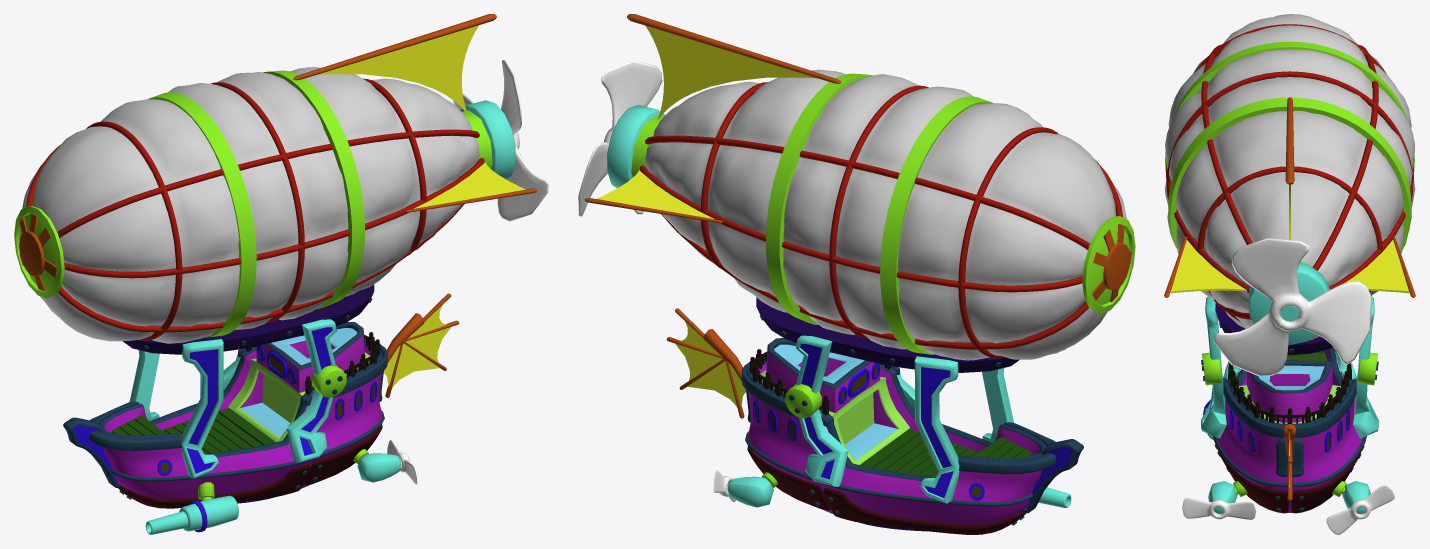
The model's file is cs_zeppelin.fbx.
3 views of the same model, side by side, from view 1: azimuth 30°, elevation 25°; view 2: azimuth 150°, elevation 25°; view 3: azimuth 270°, elevation 25° (orthographic). The views are drawn at different scales.
Visible parts, largest first — view 1: CloudStrife_Zeppelin_PIllow_low, CloudStrife_Zeppelin_Body_2_low, CloudStrife_Zeppelin_Body_low, CloudStrife_Zeppelin_Body_2_MainBlade_low; view 2: CloudStrife_Zeppelin_PIllow_low, CloudStrife_Zeppelin_Body_2_low, CloudStrife_Zeppelin_Body_low, CloudStrife_Zeppelin_Body_2_MainBlade_low; view 3: CloudStrife_Zeppelin_PIllow_low, CloudStrife_Zeppelin_Body_2_low, CloudStrife_Zeppelin_Body_low, CloudStrife_Zeppelin_Body_2_MainBlade_low, CloudStrife_Zeppelin_Body_2_RearBlade_low, CloudStrife_Zeppelin_Body_2_RearBlade2_low.
Part boxes in pixels (box(x1,y1,x2,y2)): CloudStrife_Zeppelin_PIllow_low: box(22, 67, 479, 343); CloudStrife_Zeppelin_Body_2_low: box(14, 14, 536, 534); CloudStrife_Zeppelin_Body_low: box(89, 284, 387, 508); CloudStrife_Zeppelin_Body_2_MainBlade_low: box(453, 60, 549, 221); CloudStrife_Zeppelin_PIllow_low: box(645, 69, 1126, 360); CloudStrife_Zeppelin_Body_2_low: box(584, 14, 1135, 513); CloudStrife_Zeppelin_Body_low: box(741, 297, 1056, 534); CloudStrife_Zeppelin_Body_2_MainBlade_low: box(578, 60, 662, 217); CloudStrife_Zeppelin_PIllow_low: box(1165, 14, 1415, 340); CloudStrife_Zeppelin_Body_2_low: box(1164, 24, 1415, 513); CloudStrife_Zeppelin_Body_low: box(1201, 296, 1378, 513); CloudStrife_Zeppelin_Body_2_MainBlade_low: box(1214, 238, 1371, 376); CloudStrife_Zeppelin_Body_2_RearBlade_low: box(1326, 485, 1394, 534); CloudStrife_Zeppelin_Body_2_RearBlade2_low: box(1182, 497, 1255, 519).
Size of the model in its own units: 841 by 702 by 379.
